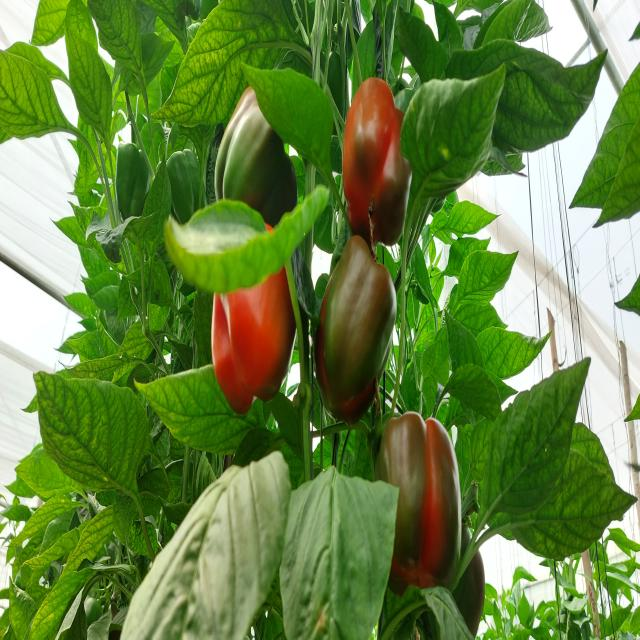BrownishRed--Can-be-Harvested: (202, 218, 302, 416), (372, 411, 466, 606), (206, 80, 302, 241), (316, 241, 397, 423), (336, 61, 412, 247)
Green--Not-ready-to-harvest: (163, 148, 201, 237)
